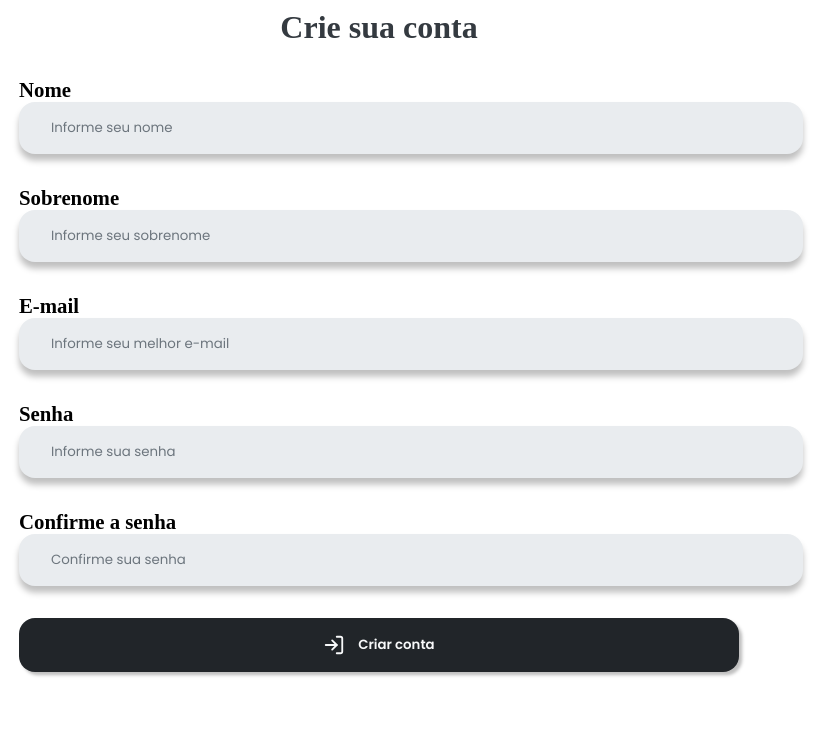
it: Sign Up › should show error if email already exists
This screenshot has width=829, height=740.
In the field with placeholder "Informe seu nome": (411, 128) [19,102,803,154], type "Lorem"
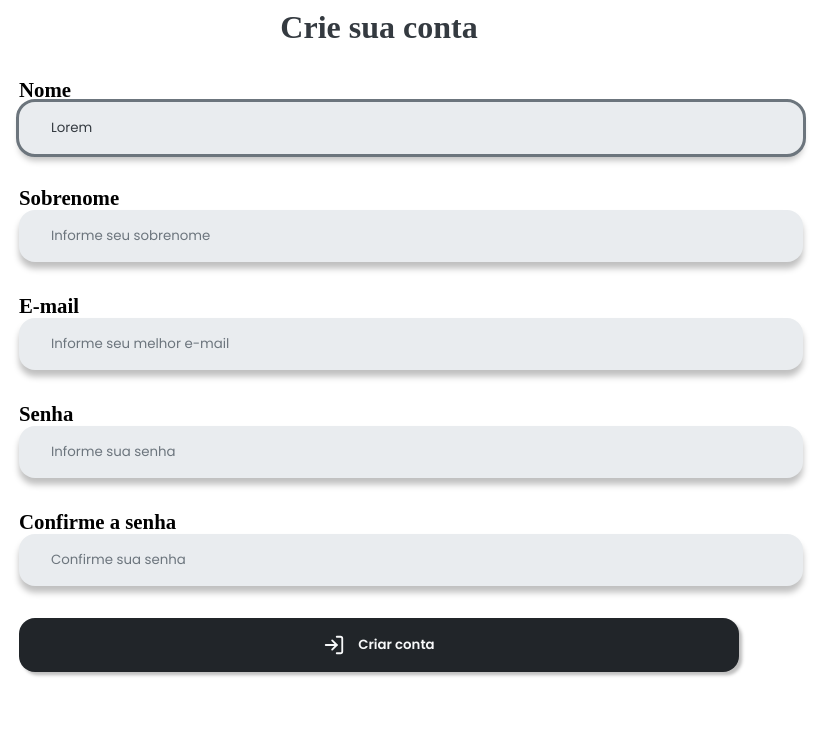
In the field with placeholder "Informe seu sobrenome": (411, 236) [19,210,803,262], type "Ipsum"
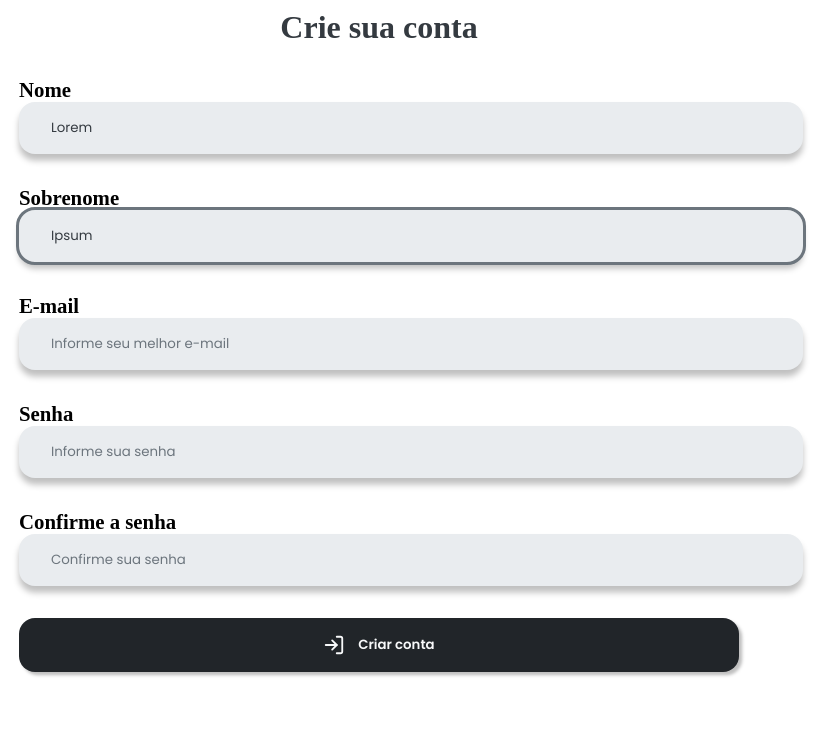
In the field with placeholder "Informe seu melhor e-mail": (411, 344) [19,318,803,370], type "lorem@ipsum.com"
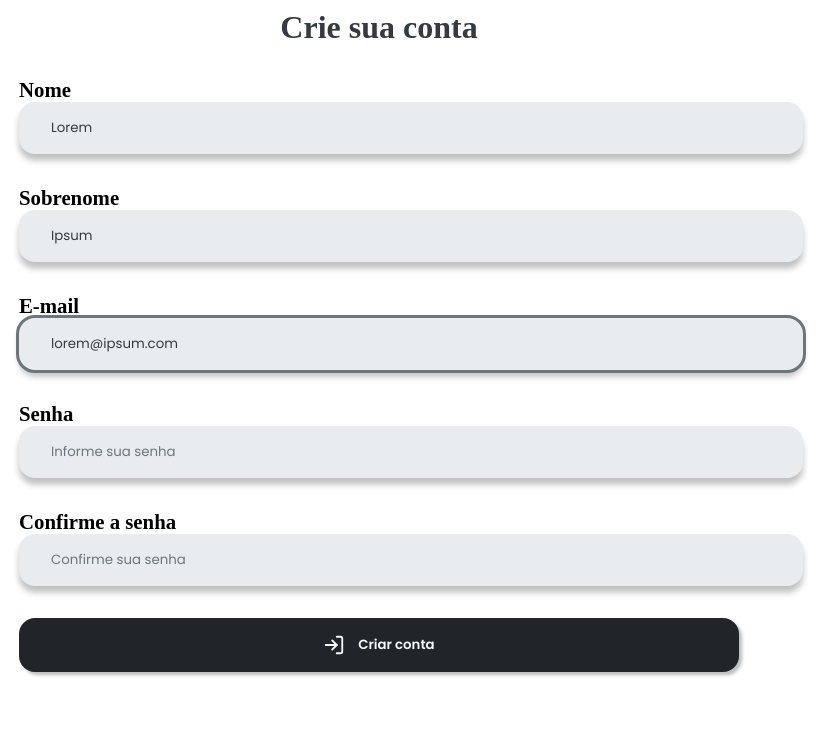
In the password field with placeholder "Informe sua senha": (411, 452) [19,426,803,478], type "12345678"
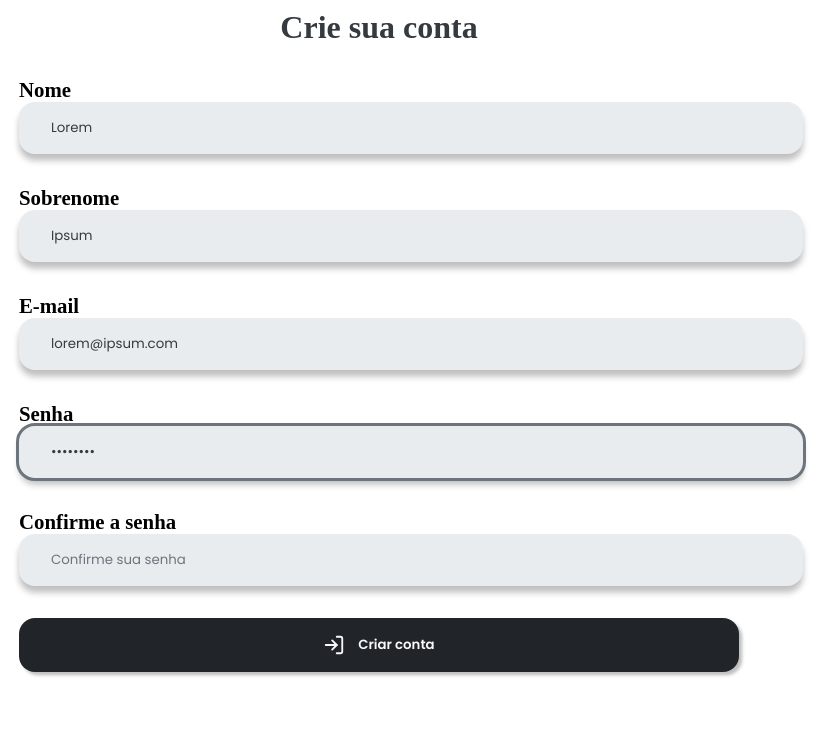
In the password field with placeholder "Confirme sua senha": (411, 560) [19,534,803,586], type "12345678"
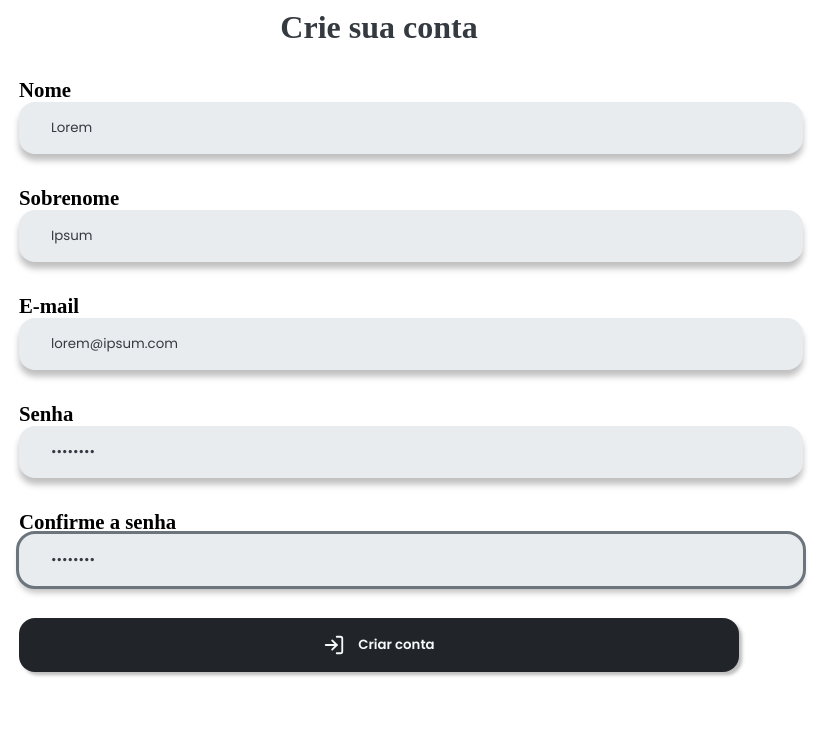
Click the button "Criar conta": (379, 645) [19,618,739,672]
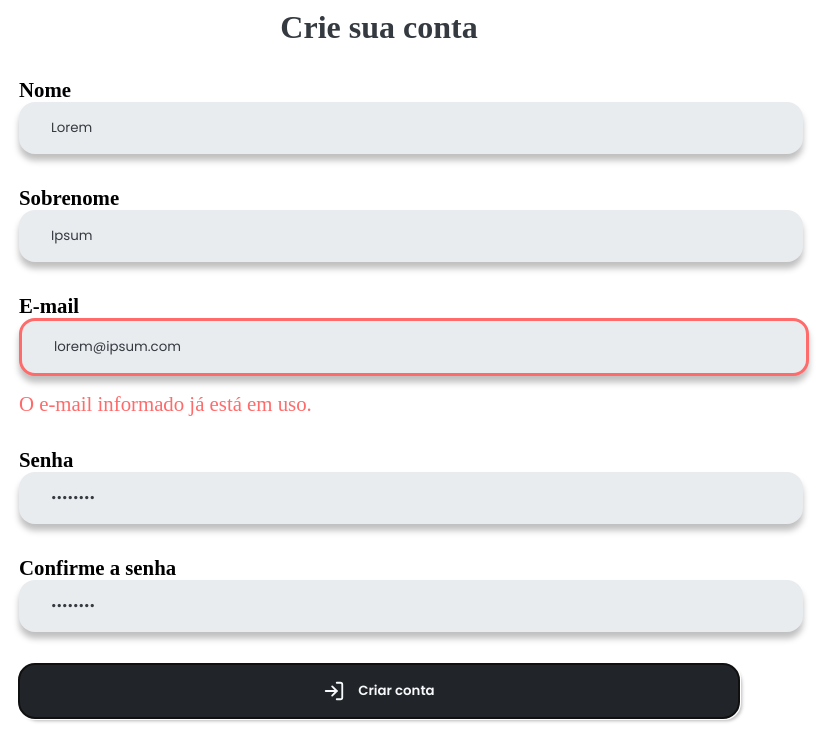
expect the text "O e-mail informado já está em uso." is shown: met, box [19,392,312,415]
